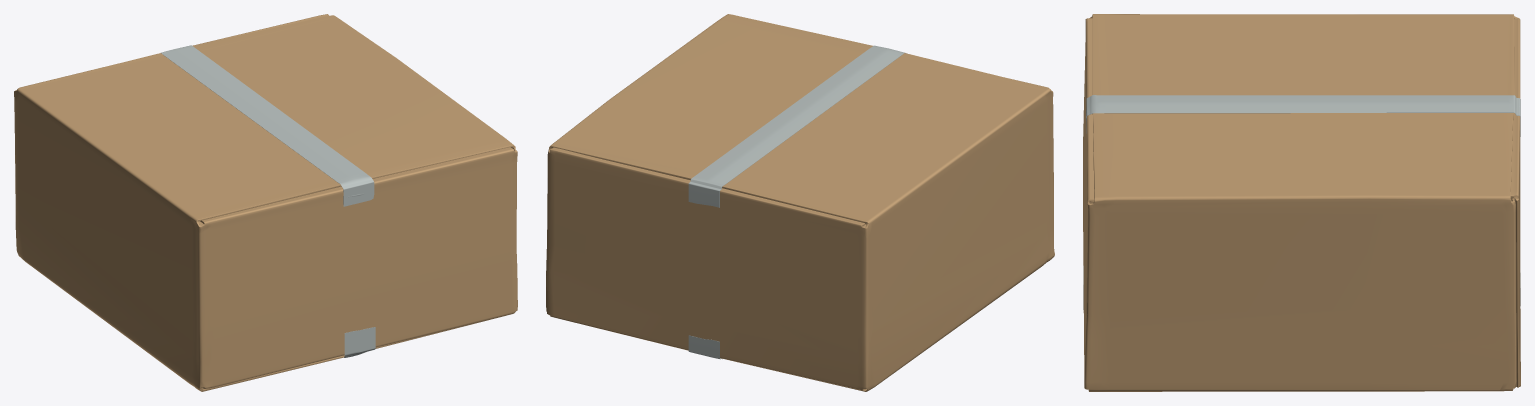
The model's file is box_flat_a09.glb.
The picture shows the model from 3 angles, left to right: view 1: azimuth 30°, elevation 25°; view 2: azimuth 150°, elevation 25°; view 3: azimuth 270°, elevation 25°; orthographic projection. The views are drawn at different scales.
Bounding box in the file's own units: 0.3148 × 0.1625 × 0.3182.
